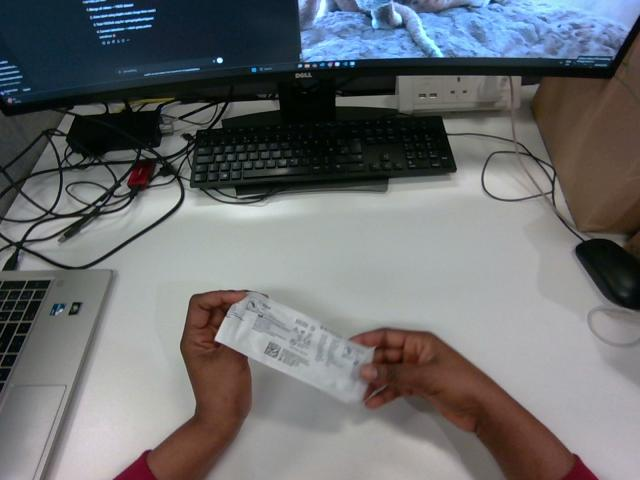syringe: (215, 292, 373, 402)
